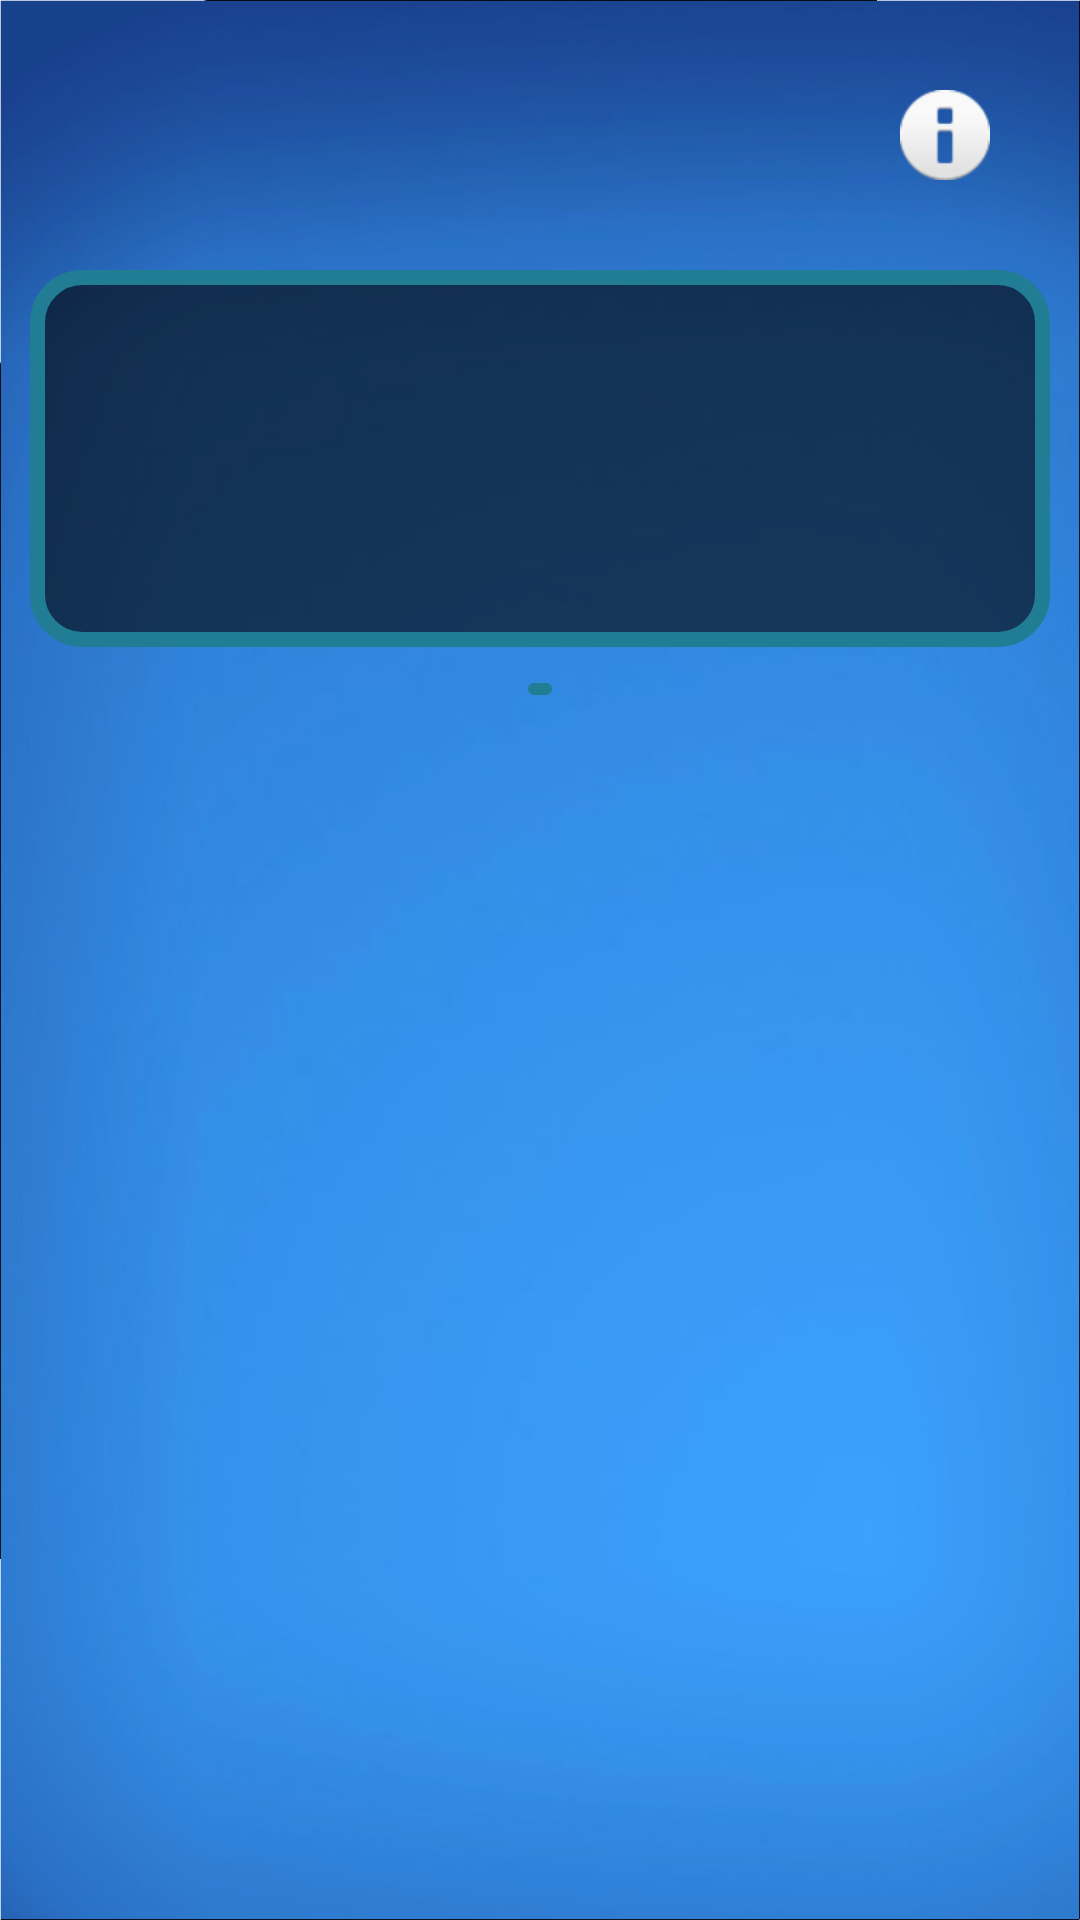

Named icons in this screenshot (1080 x 1920) and their bounding boxes, [left=x1, top=y1, right=x2, bottom=y2]:
info: [left=900, top=90, right=990, bottom=180]
